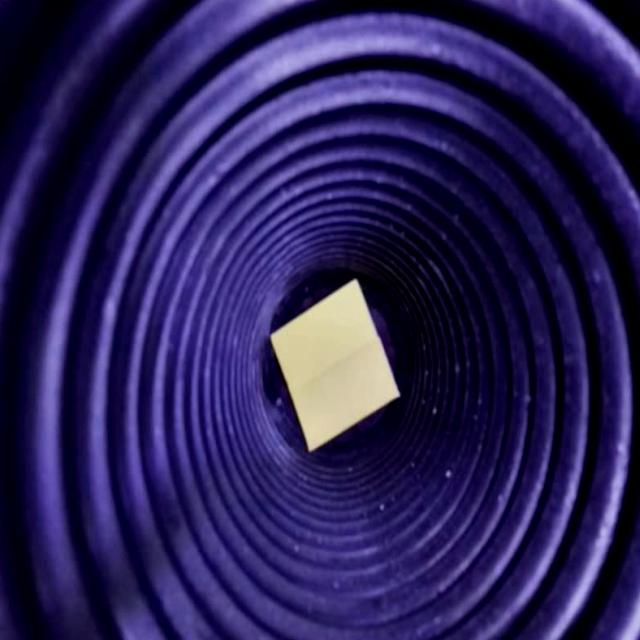obstacles: (270, 284, 401, 458)
